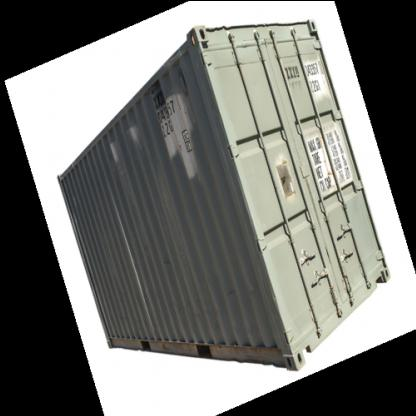Damage: (144, 90, 204, 178), (269, 150, 298, 197), (105, 137, 125, 179), (218, 276, 240, 297), (152, 244, 172, 264)
